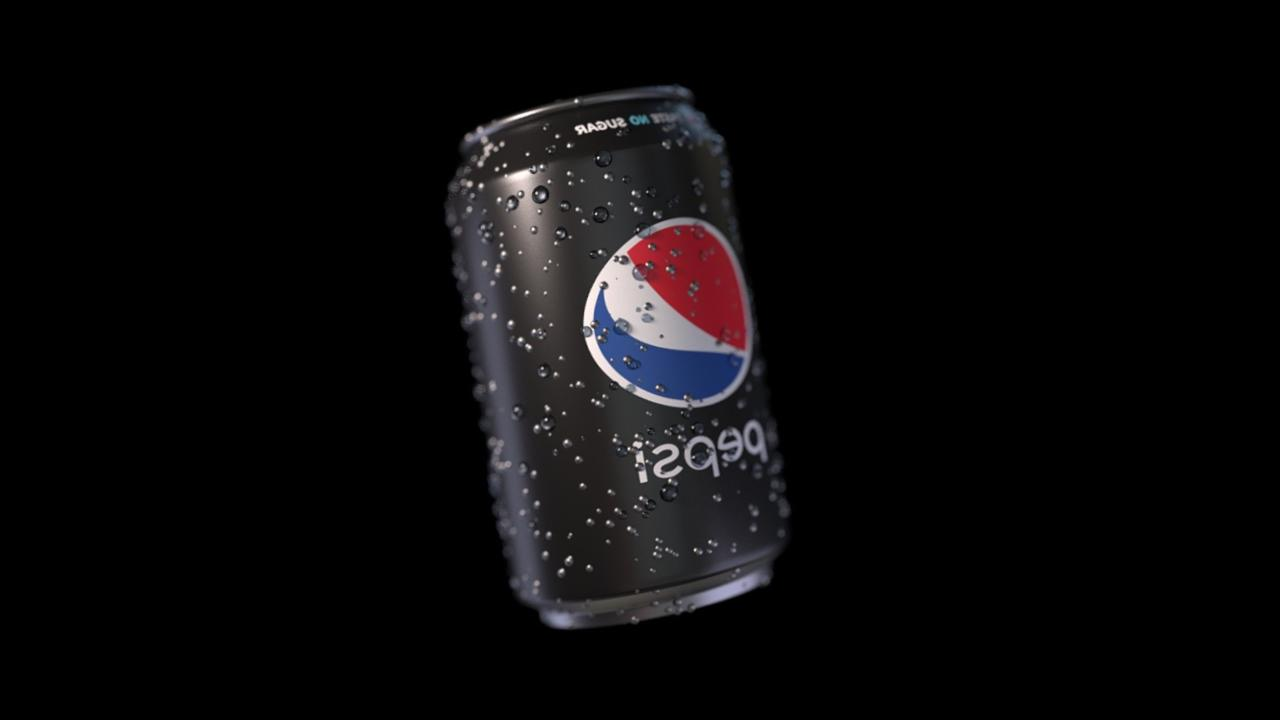metal: (447, 86, 788, 627)
